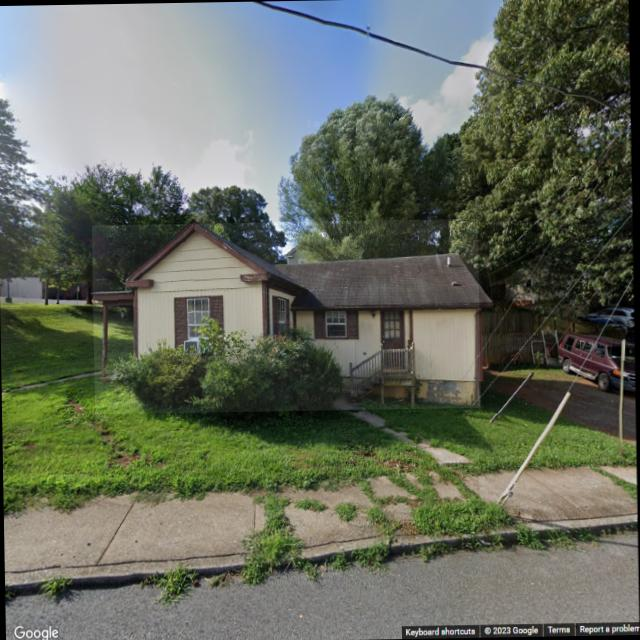House: (92, 218, 481, 414)
